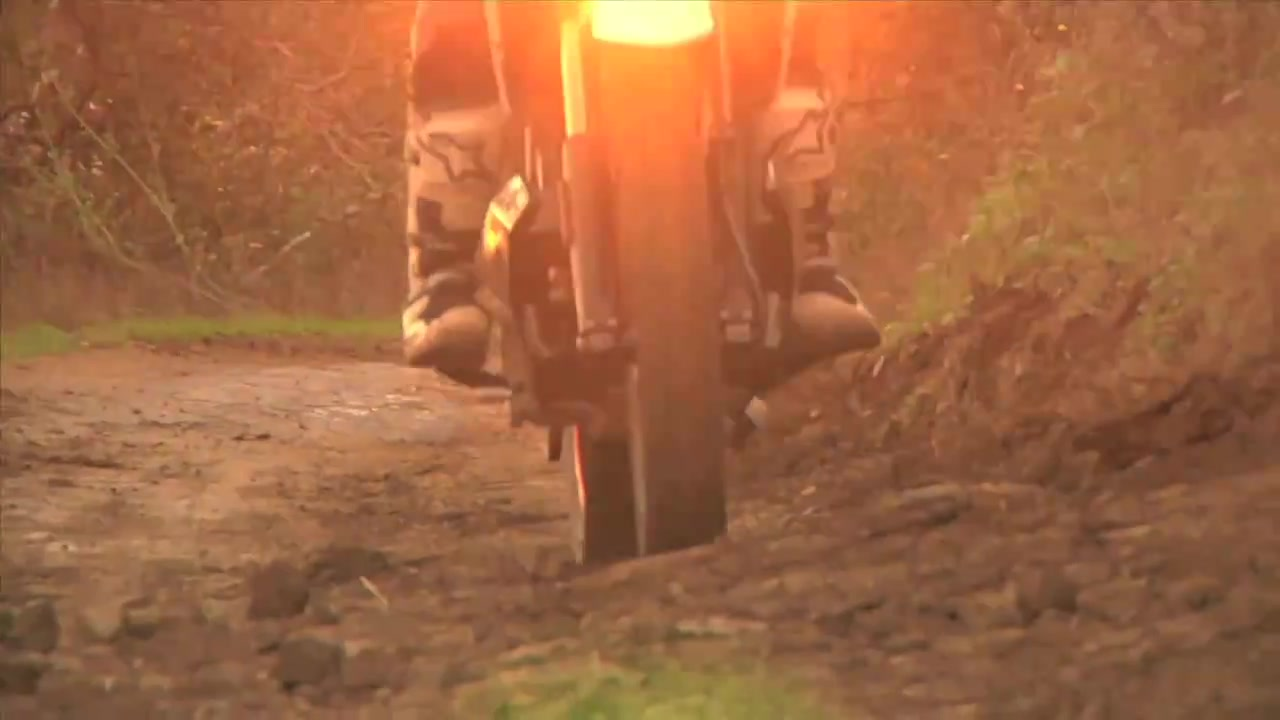motorbike: (479, 3, 759, 552)
